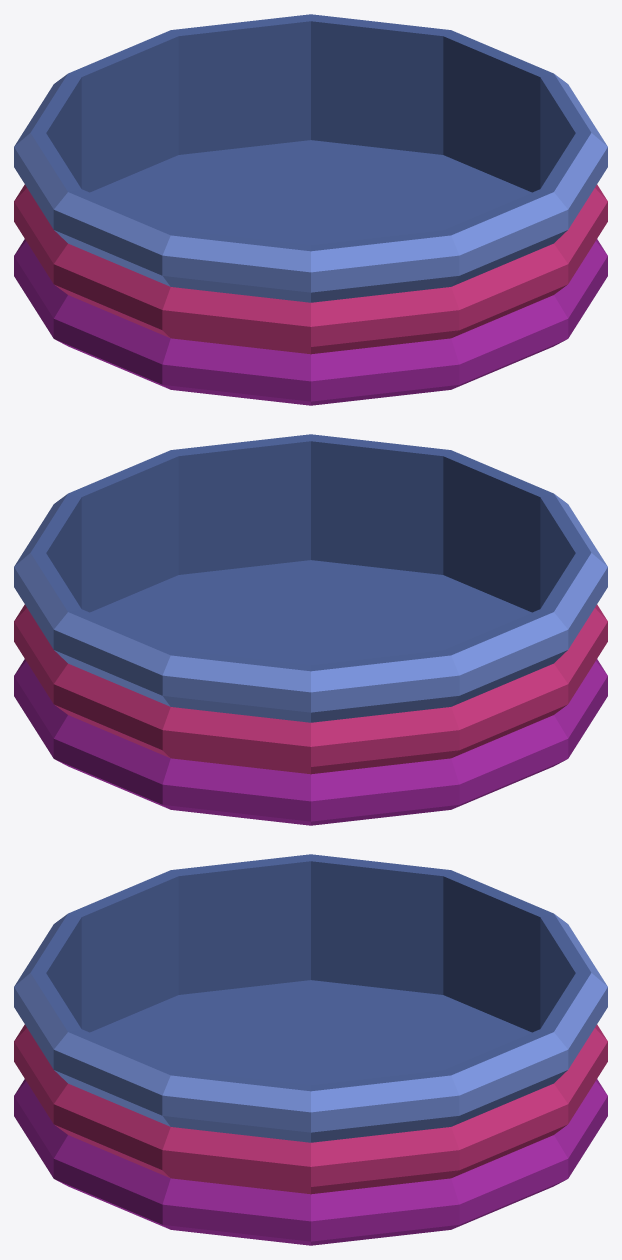
The model's file is Rubber_swimming_pool_01.fbx.
The picture shows the model from 3 angles, top to bottom: view 1: azimuth 30°, elevation 25°; view 2: azimuth 150°, elevation 25°; view 3: azimuth 270°, elevation 25°; orthographic projection.
Visible parts, largest first — view 1: Rubber_swimming_pool_01; view 2: Rubber_swimming_pool_01; view 3: Rubber_swimming_pool_01.
Part boxes in pixels (x1,y1,x2,y2): Rubber_swimming_pool_01: (14, 14, 607, 405); Rubber_swimming_pool_01: (14, 434, 607, 825); Rubber_swimming_pool_01: (14, 854, 607, 1245).
Size of the model in its own units: 129 by 36.91 by 129.
